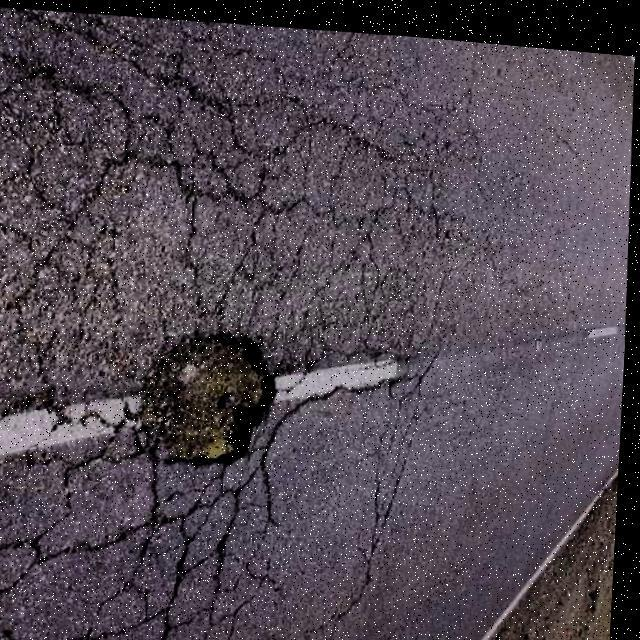pothole: (128, 314, 293, 478)
